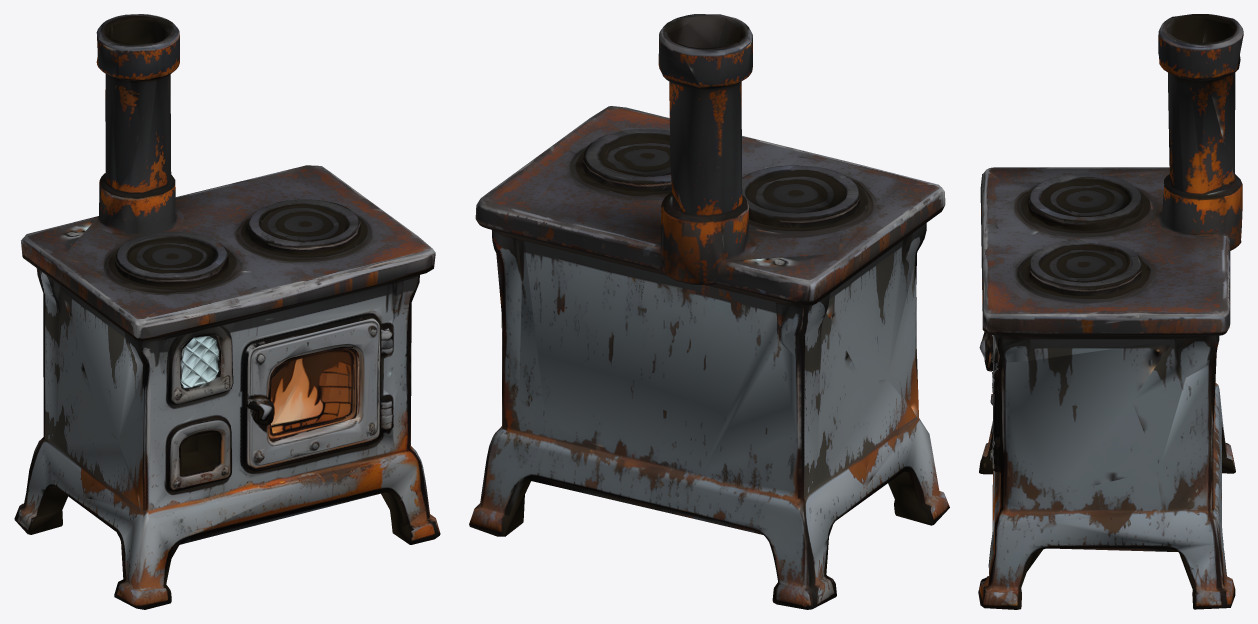
Rendered from lhi_cast_iron_stove.glb.
3 views of the same model, side by side, from view 1: azimuth 30°, elevation 25°; view 2: azimuth 150°, elevation 25°; view 3: azimuth 270°, elevation 25° (orthographic). The views are drawn at different scales.
Visible parts, largest first — view 1: material; view 2: material; view 3: material.
Boxes of the visible parts, bbox=[...] form: material: bbox=[14, 14, 440, 609]; material: bbox=[469, 14, 949, 609]; material: bbox=[978, 14, 1243, 609].
Size of the model in its own units: 0.6388 by 0.9299 by 0.4626.
Materials: 1 (1 with a texture image).
